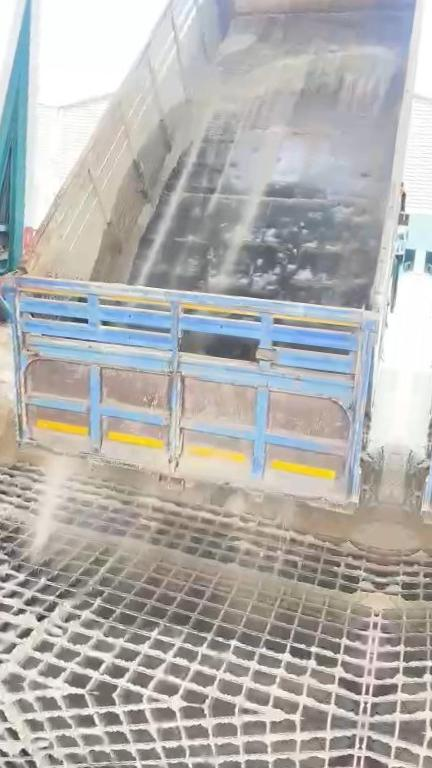sand: (0, 326, 390, 549), (111, 46, 399, 287), (38, 519, 379, 612), (0, 606, 67, 681), (33, 457, 72, 559), (0, 491, 36, 532), (222, 34, 256, 55)
